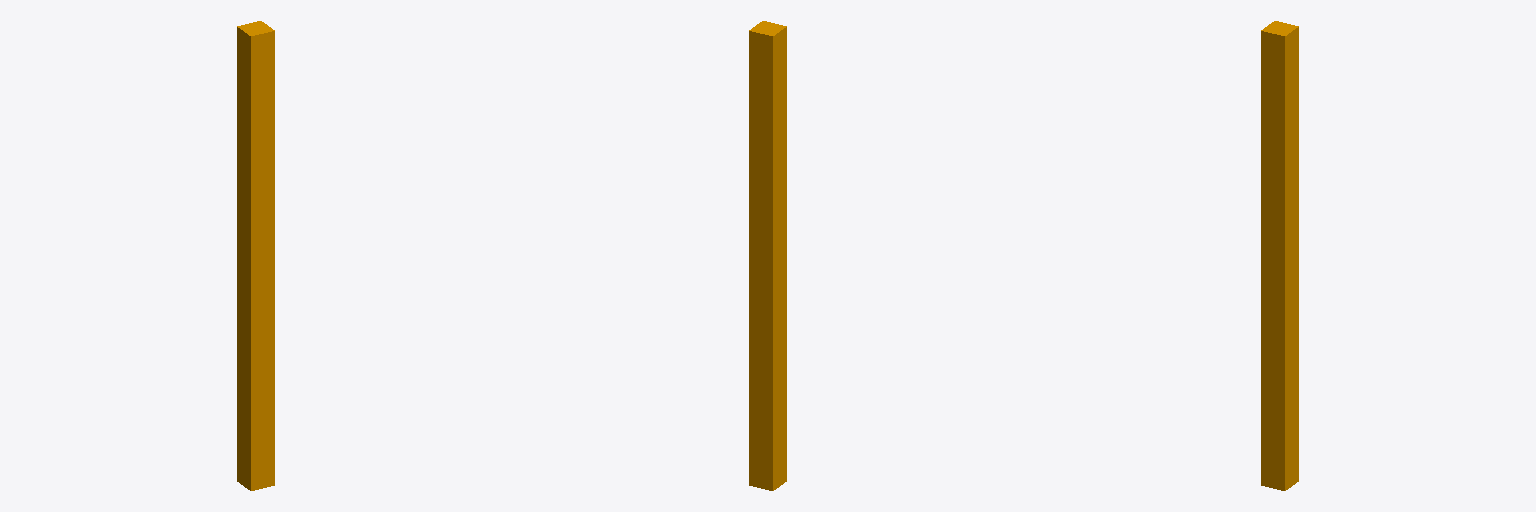
robot.urdf — right_support:
<?xml version="1.0" encoding="utf-8"?>

<robot name="right_support">
    <link name="support">
        <inertial>
            <mass value="2"/>
            <inertia
                    ixx="0.013"
                    ixy="0"
                    ixz="0"
                    iyy="0.013"
                    iyz="0"
                    izz="0.013"/>
        </inertial>
        <collision name="point_1">
            <origin rpy="0 0 0" xyz="0.0 0.0 0.225"/>
            <geometry>
              <sphere radius="0.001"/>
            </geometry>
        </collision>
        <visual>
            <origin rpy="0 0 0" xyz="0 0 0.0"/>
            <geometry>
                <box size="0.025 0.025 0.45"/>
            </geometry>
        </visual>
    </link>
</robot>

--- What the picture shows (computed from the rendered views, not written in the file) ---
The picture shows the robot from 3 angles, left to right: view 1: azimuth 30°, elevation 25°; view 2: azimuth 150°, elevation 25°; view 3: azimuth 330°, elevation 25°; orthographic projection.
Model right_support with 1 links and 0 joints (none), rooted at support, posed every joint at zero.
Visible links, largest first — view 1: support; view 2: support; view 3: support.
Link boxes in pixels (<box>): support: <box>237,21,274,490</box>; support: <box>749,21,786,490</box>; support: <box>1261,21,1298,490</box>.
Size in the robot's own frame: 0.025 by 0.025 by 0.45 metres.
Geometry: primitives only (box / cylinder / sphere), no mesh files.
